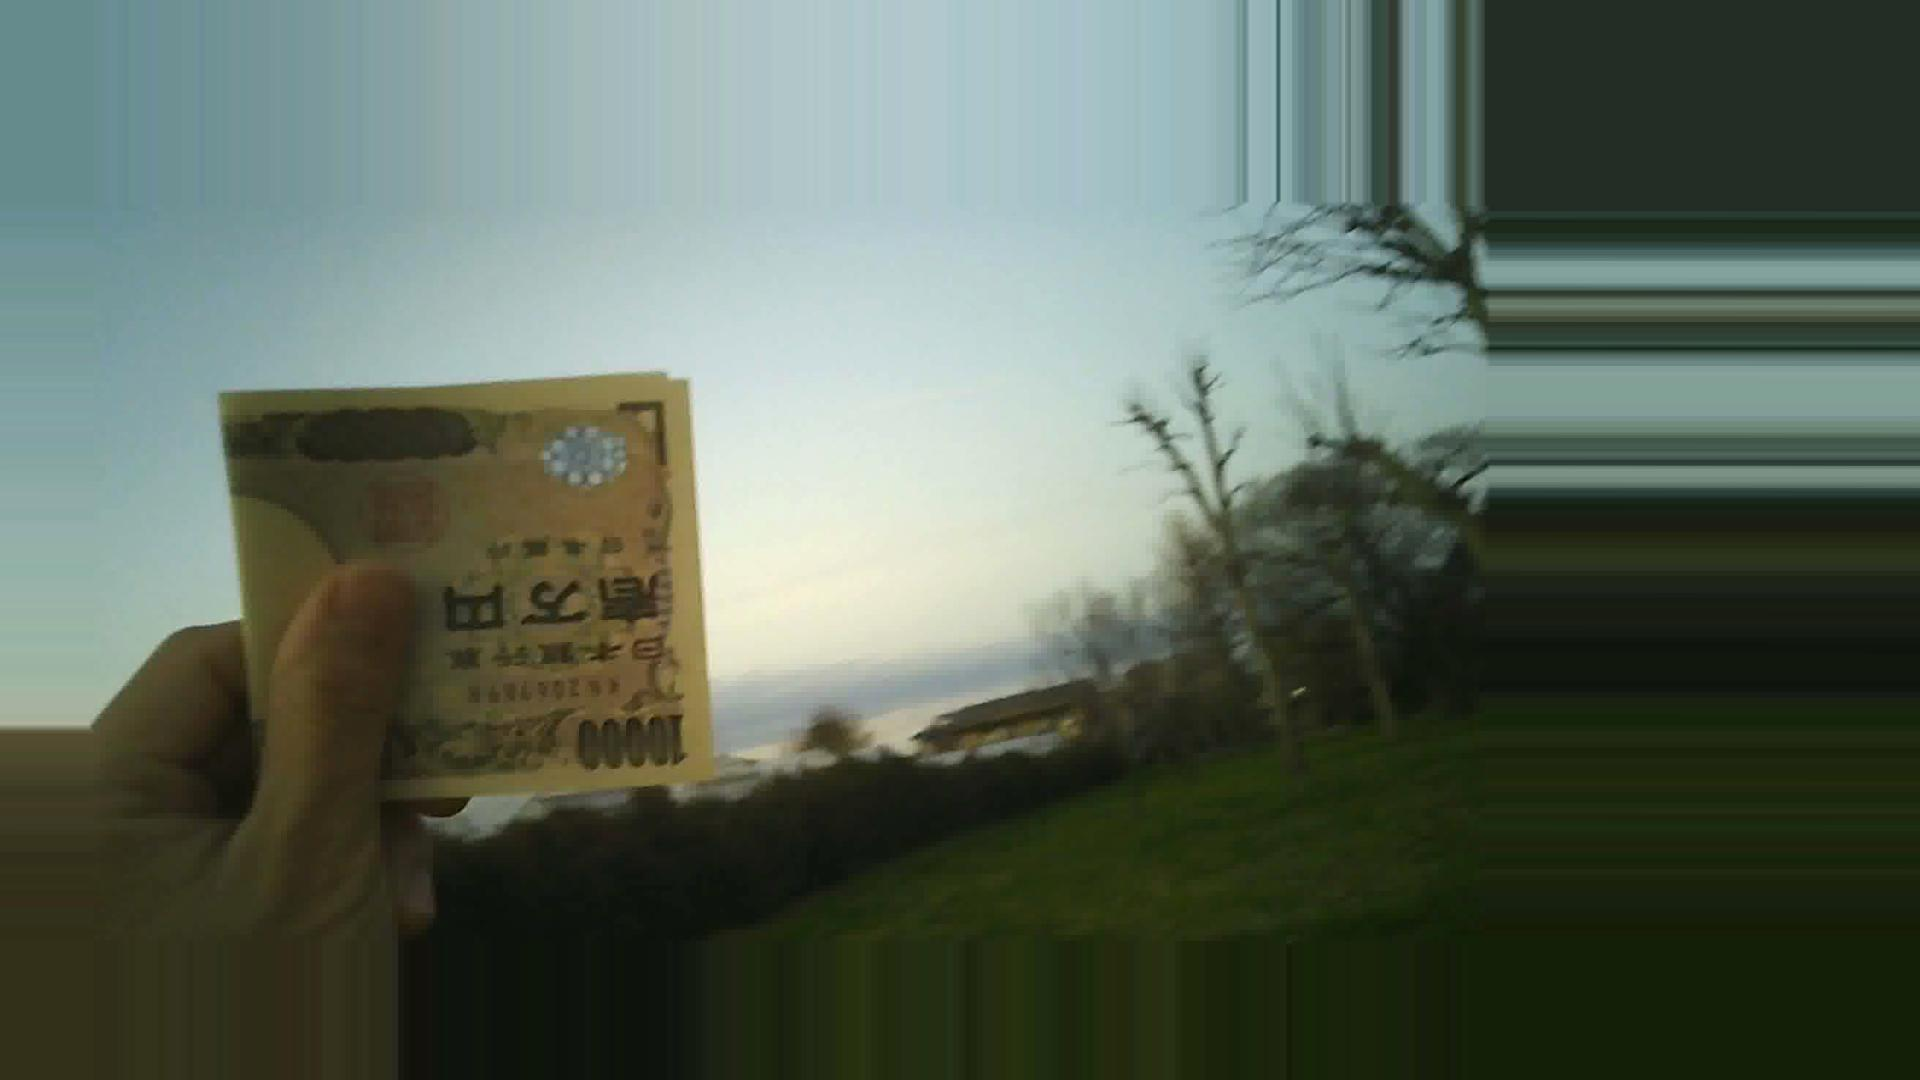10,000 Yen: (196, 328, 744, 807)
